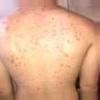Acne: (68, 22, 83, 49), (5, 51, 24, 70), (57, 49, 74, 63), (51, 28, 58, 37)
